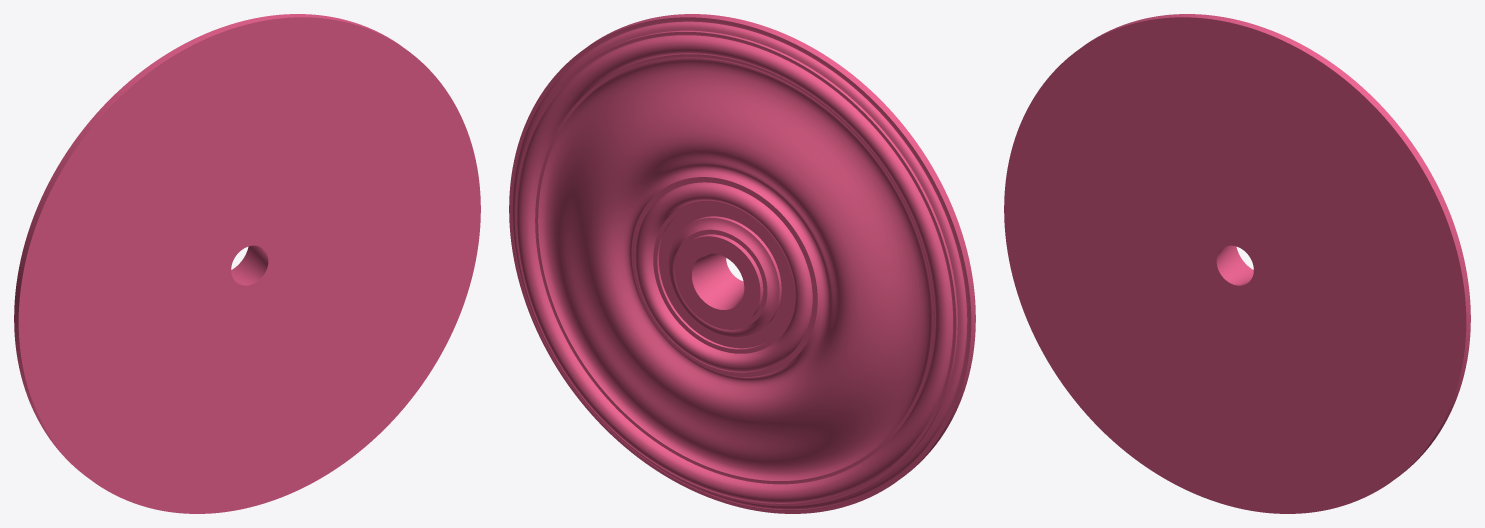
The picture shows the model from 3 angles, left to right: view 1: azimuth 30°, elevation 25°; view 2: azimuth 150°, elevation 25°; view 3: azimuth 330°, elevation 25°; orthographic projection.
Visible parts, largest first — view 1: Object_2; view 2: Object_2; view 3: Object_2.
Part boxes in pixels (bbox=[...]): Object_2: bbox=[14, 14, 480, 513]; Object_2: bbox=[509, 14, 975, 513]; Object_2: bbox=[1004, 14, 1470, 513].
Bounding box in the file's own units: 1 × 1 × 0.1.
